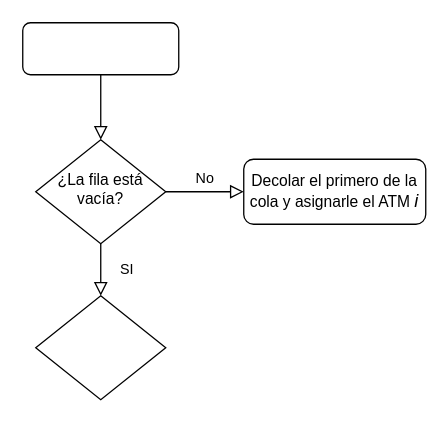
Image size: 448x422. Some labels were removed from this diagram. Each missing label, with the centre of its shape:
Liberar ATM i: pixel 100 347
Salida de un Cliente de ATM i: pixel 100 48
